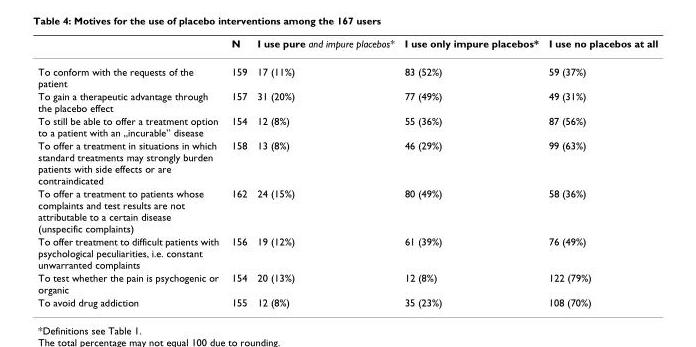table: (37, 36, 657, 308)
table column: (37, 36, 224, 308), (251, 36, 398, 308), (398, 36, 542, 308), (542, 36, 657, 308), (224, 36, 251, 308)
table column header: (37, 36, 657, 57)
table row: (37, 138, 657, 186), (37, 186, 657, 234), (37, 234, 657, 270), (37, 57, 657, 89), (37, 113, 657, 138), (37, 270, 657, 295), (37, 89, 657, 113), (37, 36, 657, 57), (37, 295, 657, 308)
